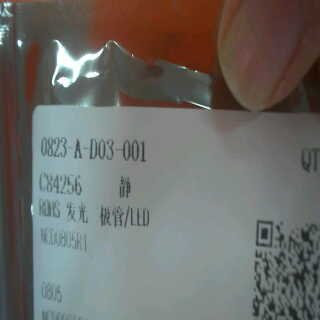LED: (64, 199, 158, 231)
